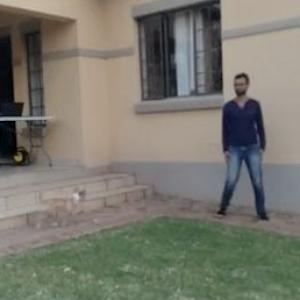follow: (208, 77, 252, 223)
